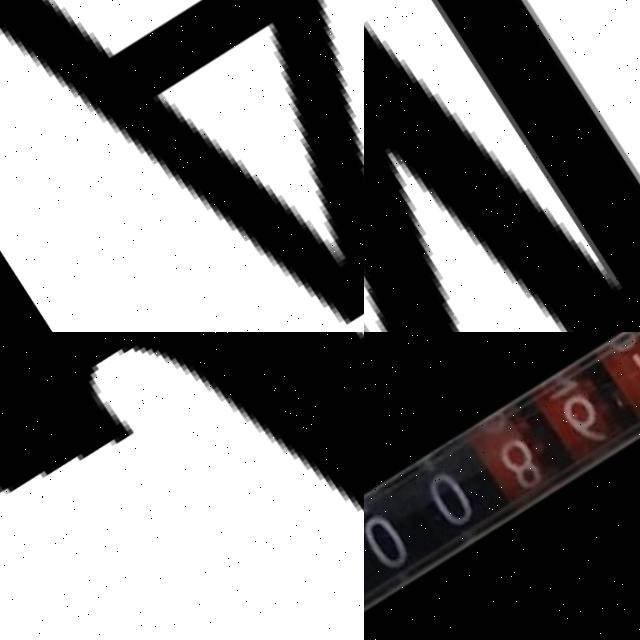0: (421, 456, 489, 530), (364, 498, 426, 574)
1: (619, 332, 640, 402)
6: (556, 376, 624, 449)
8: (496, 428, 553, 489)
A: (0, 0, 364, 332)
J: (0, 332, 364, 640)
M: (364, 0, 640, 332)
